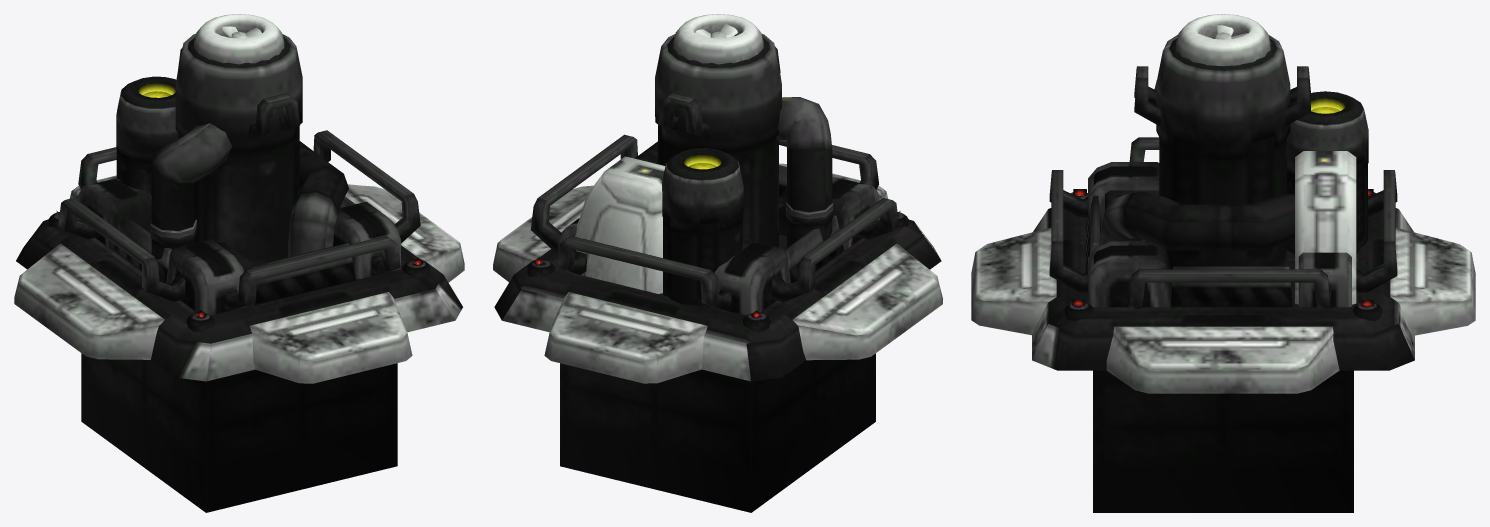
The model's file is NCSupplyDepot.glb.
3 renders of one model, left to right at view 1: azimuth 30°, elevation 25°; view 2: azimuth 150°, elevation 25°; view 3: azimuth 270°, elevation 25°, orthographic. The views are drawn at different scales.
Visible parts, largest first — view 1: Mesh.001, Mesh; view 2: Mesh.001, Mesh; view 3: Mesh.001, Mesh.
Part boxes in pixels (<box>): Mesh.001: <box>14,14,464,512</box>; Mesh: <box>116,33,302,245</box>; Mesh.001: <box>493,14,942,512</box>; Mesh: <box>655,33,833,232</box>; Mesh.001: <box>971,14,1475,512</box>; Mesh: <box>1156,34,1368,174</box>.
Size of the model in its own units: 3.66 by 3.86 by 4.04.
4 materials, 4 textured.
